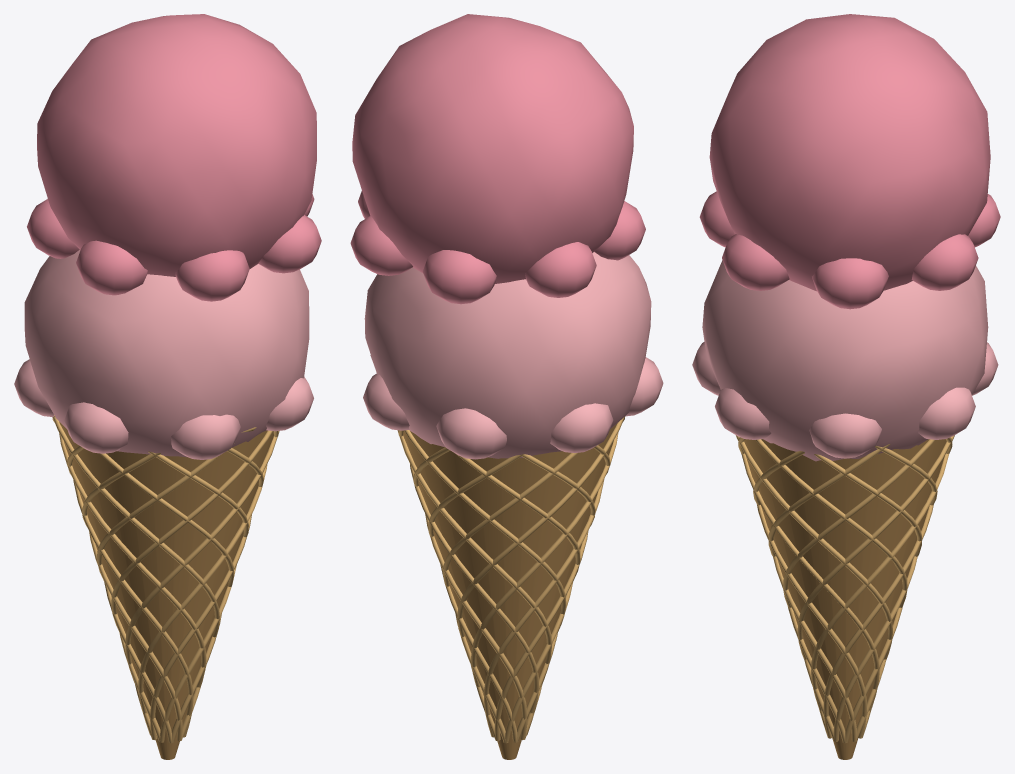
Rendered from icecream_strawberry_double_cone.glb.
3 renders of one model, left to right at view 1: azimuth 30°, elevation 25°; view 2: azimuth 150°, elevation 25°; view 3: azimuth 270°, elevation 25°, orthographic.
Visible parts, largest first — view 1: Upper strawberry scoop, Lower strawberry scoop, Pointed waffle cone, Upper strawberry scoop lower scoop ruffle.005, Upper strawberry scoop lower scoop ruffle.004, Lower strawberry scoop lower scoop ruffle.004, Lower strawberry scoop lower scoop ruffle.005, Upper strawberry scoop lower scoop ruffle.006, Upper strawberry scoop lower scoop ruffle.003, Diagonal baked waffle ridge.013, Lower strawberry scoop lower scoop ruffle.006, Diagonal baked waffle ridge.001 (+14 smaller); view 2: Upper strawberry scoop, Lower strawberry scoop, Pointed waffle cone, Upper strawberry scoop lower scoop ruffle.002, Upper strawberry scoop lower scoop ruffle.003, Lower strawberry scoop lower scoop ruffle.002, Lower strawberry scoop lower scoop ruffle.003, Upper strawberry scoop lower scoop ruffle.001, Upper strawberry scoop lower scoop ruffle.004, Lower strawberry scoop lower scoop ruffle.001, Diagonal baked waffle ridge.007, Diagonal baked waffle ridge.019 (+14 smaller); view 3: Upper strawberry scoop, Lower strawberry scoop, Pointed waffle cone, Upper strawberry scoop lower scoop ruffle, Upper strawberry scoop lower scoop ruffle.001, Lower strawberry scoop lower scoop ruffle, Upper strawberry scoop lower scoop ruffle.006, Lower strawberry scoop lower scoop ruffle.001, Lower strawberry scoop lower scoop ruffle.006, Diagonal baked waffle ridge.016, Diagonal baked waffle ridge.004, Diagonal baked waffle ridge.003 (+15 smaller).
Part boxes in pixels (x1,y1,x2,y2): Upper strawberry scoop: (37,14,316,276); Lower strawberry scoop: (24,250,309,457); Pointed waffle cone: (59,421,273,759); Upper strawberry scoop lower scoop ruffle.005: (175,250,249,301); Upper strawberry scoop lower scoop ruffle.004: (76,240,147,295); Lower strawberry scoop lower scoop ruffle.004: (64,402,128,453); Lower strawberry scoop lower scoop ruffle.005: (171,414,240,459); Upper strawberry scoop lower scoop ruffle.006: (258,215,321,273); Upper strawberry scoop lower scoop ruffle.003: (27,199,79,258); Diagonal baked waffle ridge.013: (125,431,279,684); Lower strawberry scoop lower scoop ruffle.006: (266,376,313,431); Diagonal baked waffle ridge.001: (53,417,219,637); Upper strawberry scoop: (352,14,633,283); Lower strawberry scoop: (364,252,651,458); Pointed waffle cone: (403,423,617,759); Upper strawberry scoop lower scoop ruffle.002: (422,250,496,304); Upper strawberry scoop lower scoop ruffle.003: (525,242,596,297); Lower strawberry scoop lower scoop ruffle.002: (436,408,506,459); Lower strawberry scoop lower scoop ruffle.003: (550,403,613,453); Upper strawberry scoop lower scoop ruffle.001: (350,215,412,275); Upper strawberry scoop lower scoop ruffle.004: (594,201,645,260); Lower strawberry scoop lower scoop ruffle.001: (363,373,409,430); Diagonal baked waffle ridge.007: (397,430,551,684); Diagonal baked waffle ridge.019: (457,417,624,636); Upper strawberry scoop: (709,14,990,291); Lower strawberry scoop: (702,260,988,461); Pointed waffle cone: (744,439,946,759); Upper strawberry scoop lower scoop ruffle: (812,258,888,309); Upper strawberry scoop lower scoop ruffle.001: (911,234,978,290); Lower strawberry scoop lower scoop ruffle: (809,413,881,458); Upper strawberry scoop lower scoop ruffle.006: (722,234,789,290); Lower strawberry scoop lower scoop ruffle.001: (918,387,975,439); Lower strawberry scoop lower scoop ruffle.006: (715,388,771,439); Diagonal baked waffle ridge.016: (797,435,954,659); Diagonal baked waffle ridge.004: (736,435,892,659); Diagonal baked waffle ridge.003: (741,453,879,711).
Bounding box in the file's own units: 0.1286 × 0.334 × 0.1269.
